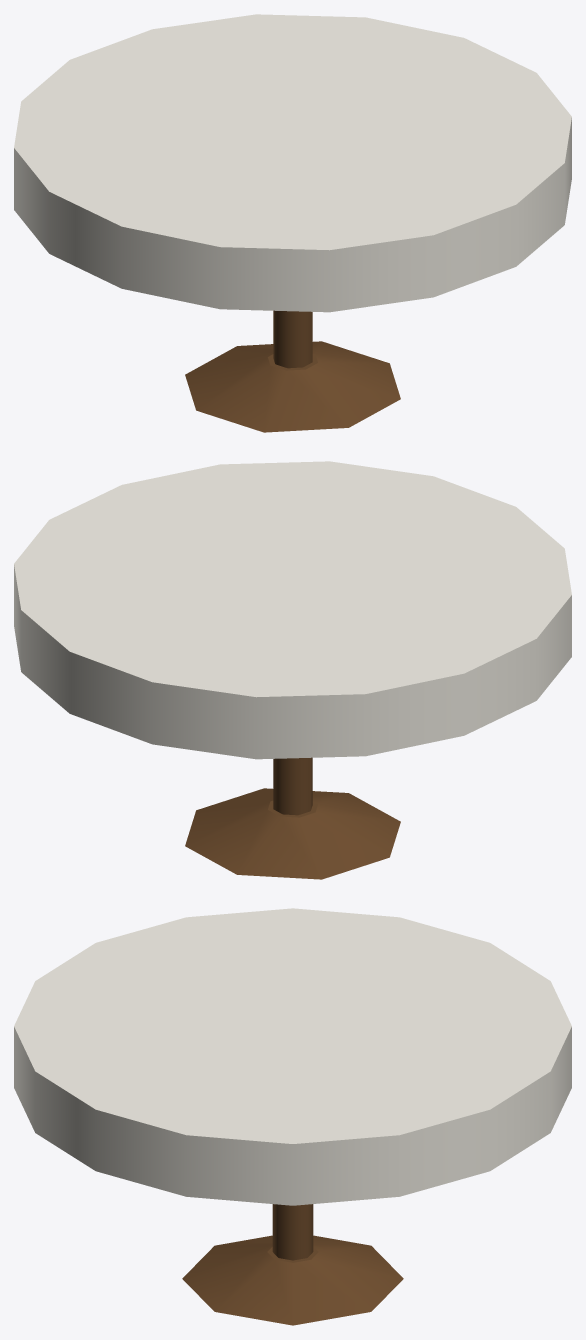
The picture shows the model from 3 angles, top to bottom: view 1: azimuth 30°, elevation 25°; view 2: azimuth 150°, elevation 25°; view 3: azimuth 270°, elevation 25°; orthographic projection.
Parts seen in each view (by area): view 1: parametric-variant-round-table-1st-pub-e4cbfd944483555a2a24; view 2: parametric-variant-round-table-1st-pub-e4cbfd944483555a2a24; view 3: parametric-variant-round-table-1st-pub-e4cbfd944483555a2a24.
Boxes of the visible parts, bbox=[...] form: parametric-variant-round-table-1st-pub-e4cbfd944483555a2a24: bbox=[14, 14, 571, 432]; parametric-variant-round-table-1st-pub-e4cbfd944483555a2a24: bbox=[14, 461, 571, 879]; parametric-variant-round-table-1st-pub-e4cbfd944483555a2a24: bbox=[14, 908, 571, 1325].
Bounding box in the file's own units: 1.51 × 0.754 × 1.51.
